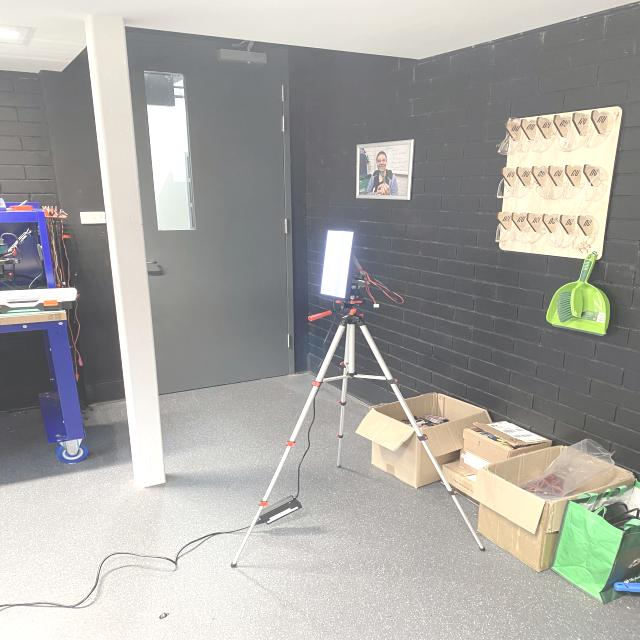matrix: (315, 227, 355, 301)
